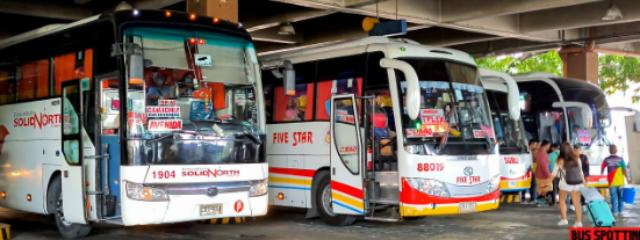bus: (0, 6, 270, 239), (256, 37, 503, 218), (512, 74, 618, 199), (474, 69, 520, 199)
